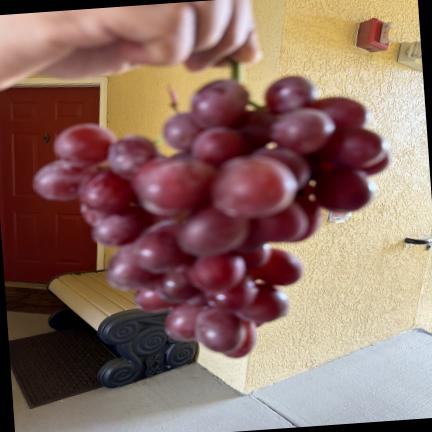grape_cluster: (32, 60, 389, 357)
